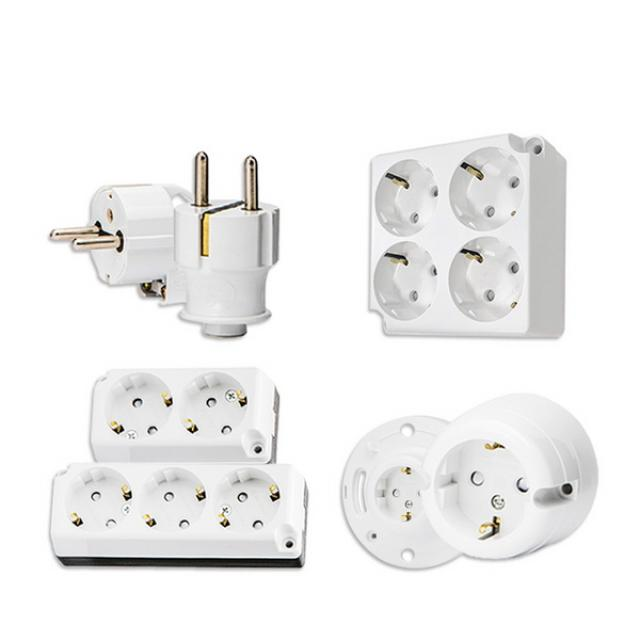typeb: (357, 133, 588, 359), (30, 447, 321, 583), (52, 359, 302, 464)
